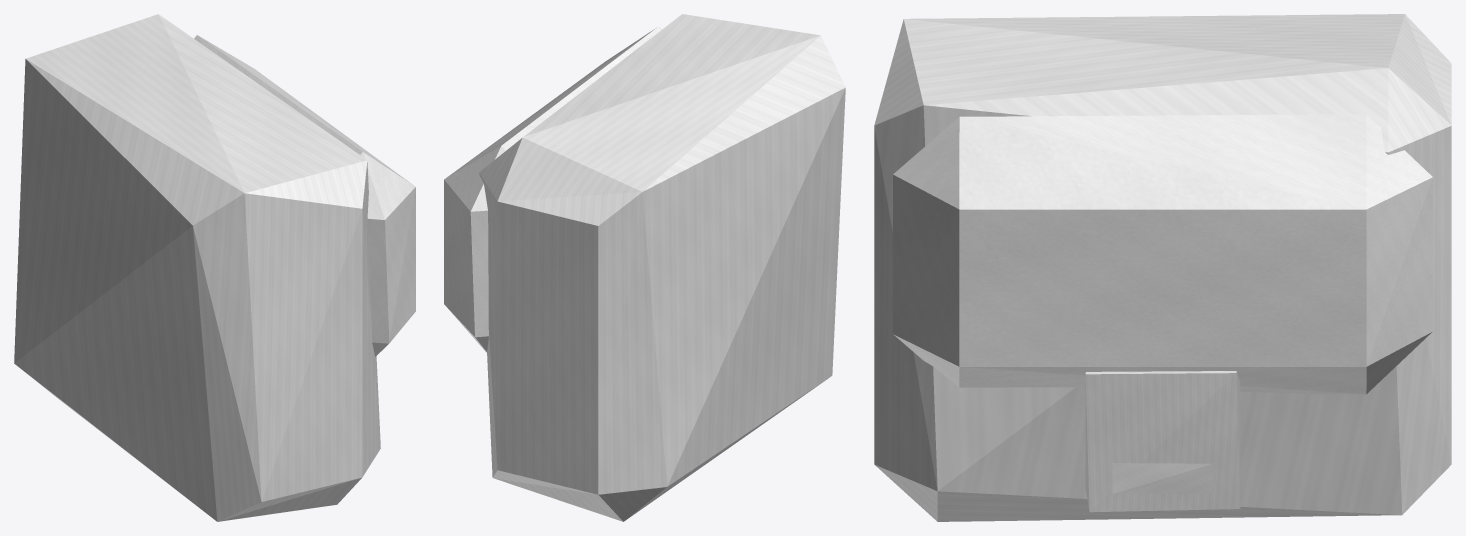
File: Field_Medic_Medical_Pouch_R_LOD2.glb
The picture shows the model from 3 angles, left to right: view 1: azimuth 30°, elevation 25°; view 2: azimuth 150°, elevation 25°; view 3: azimuth 270°, elevation 25°; orthographic projection. The views are drawn at different scales.
Visible parts, largest first — view 1: Field_Medic_Medical_Pouch_R_LOD2; view 2: Field_Medic_Medical_Pouch_R_LOD2; view 3: Field_Medic_Medical_Pouch_R_LOD2.
Part boxes in pixels (box(x1,y1,x2,y2)): Field_Medic_Medical_Pouch_R_LOD2: box(14, 14, 415, 521); Field_Medic_Medical_Pouch_R_LOD2: box(444, 14, 845, 521); Field_Medic_Medical_Pouch_R_LOD2: box(874, 14, 1451, 521).
Bounding box in the file's own units: 0.1032 × 0.15 × 0.173.
Materials: 3 (3 with a texture image).
